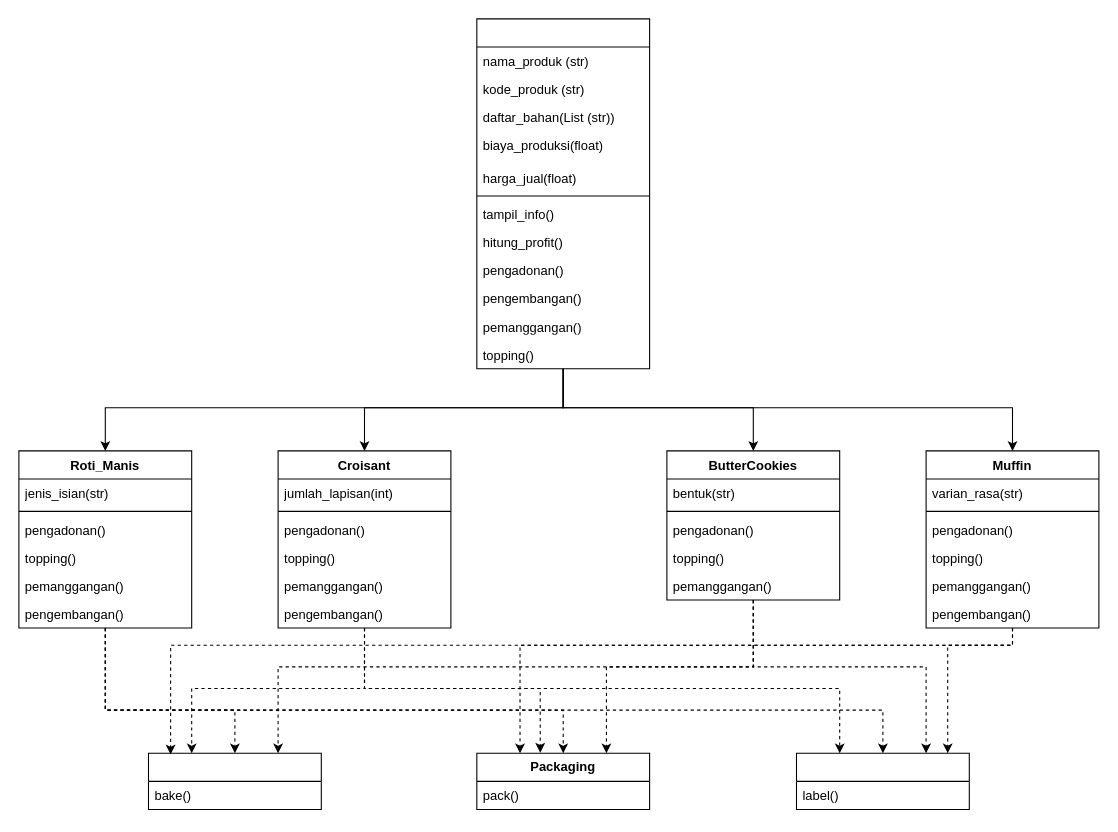
Some shapes in this 1118 by 832 pixel diagram are drawn without their labels. The box of each missing label's shape, as (x1, y1, x2, y2) in pixels:
Backing: (147, 752, 321, 809)
Labeling: (795, 752, 969, 809)
Produk_Roti: (476, 18, 650, 369)
